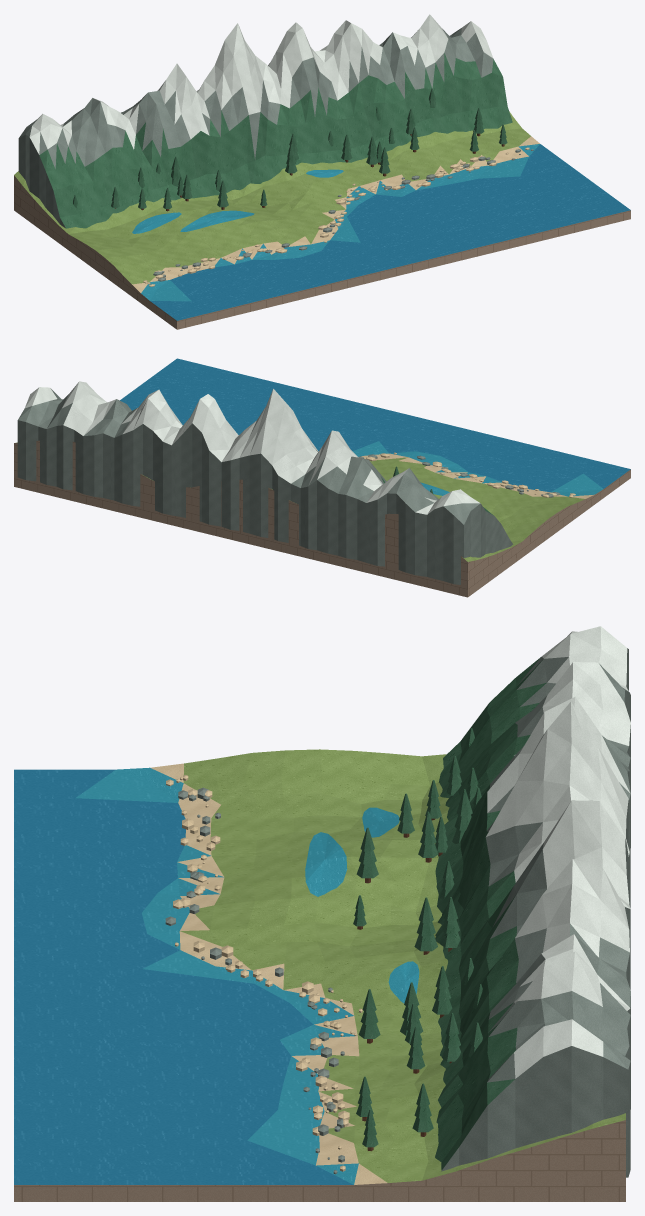
The model's file is sayram.glb.
3 renders of one model, top to bottom at view 1: azimuth 30°, elevation 25°; view 2: azimuth 150°, elevation 25°; view 3: azimuth 270°, elevation 25°, orthographic. The views are drawn at different scales.
Visible parts, largest first — view 1: 赛里木湖; view 2: 赛里木湖; view 3: 赛里木湖.
Part boxes in pixels (left/top/right/bottom): 赛里木湖: left=14, top=14, right=630, bottom=329; 赛里木湖: left=14, top=358, right=630, bottom=597; 赛里木湖: left=14, top=626, right=630, bottom=1201.
Bounding box in the file's own units: 10.6 × 3.29 × 6.65.
9 materials, 9 textured.
